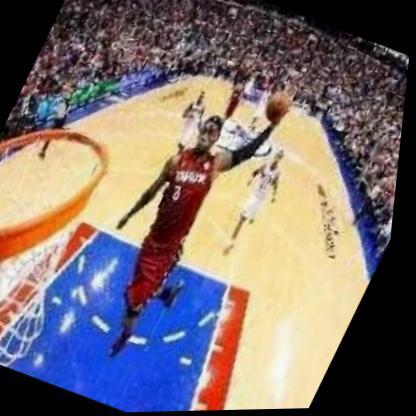basketball: (258, 85, 301, 129)
